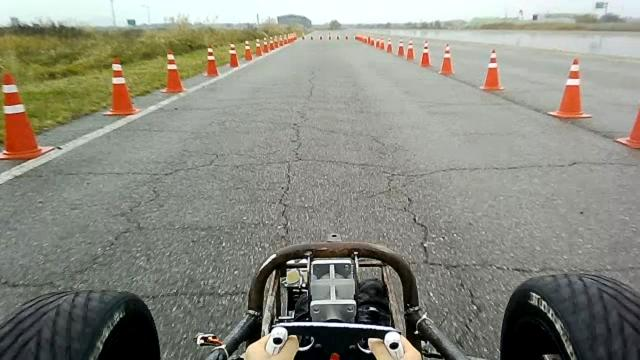red cone: (0, 72, 56, 160), (547, 58, 592, 119), (102, 56, 141, 116), (479, 48, 505, 91), (160, 49, 185, 93), (438, 43, 455, 75), (203, 46, 219, 78), (420, 40, 432, 67), (228, 42, 239, 67), (405, 38, 415, 60), (397, 38, 406, 57), (244, 40, 252, 61), (254, 38, 263, 56), (386, 38, 393, 53)
